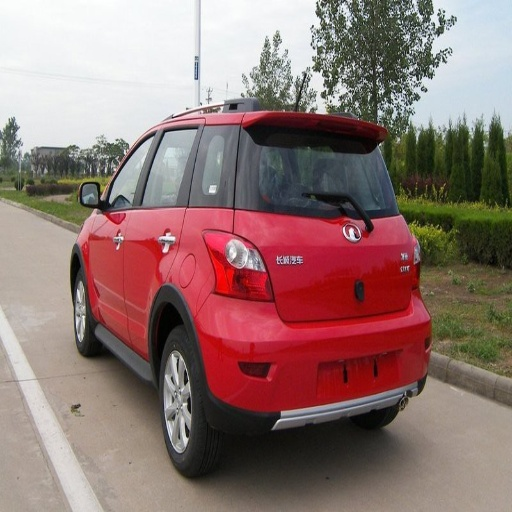back_bumper: (197, 295, 429, 430)
back_glass: (252, 125, 391, 215)
back_left_door: (126, 128, 197, 346)
trunk: (237, 212, 410, 323)
